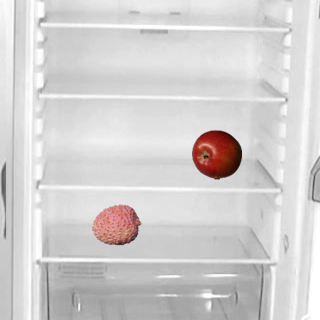Apple Braeburn: (191, 129, 241, 179)
Lychee: (91, 199, 141, 249)
